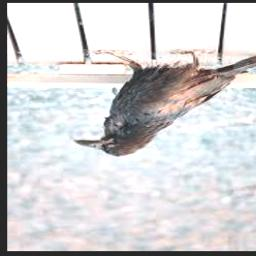Crow: (73, 49, 256, 157)
